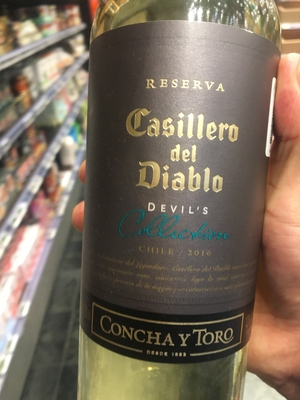casillero del diablo devils collection verde: (84, 4, 285, 400)
